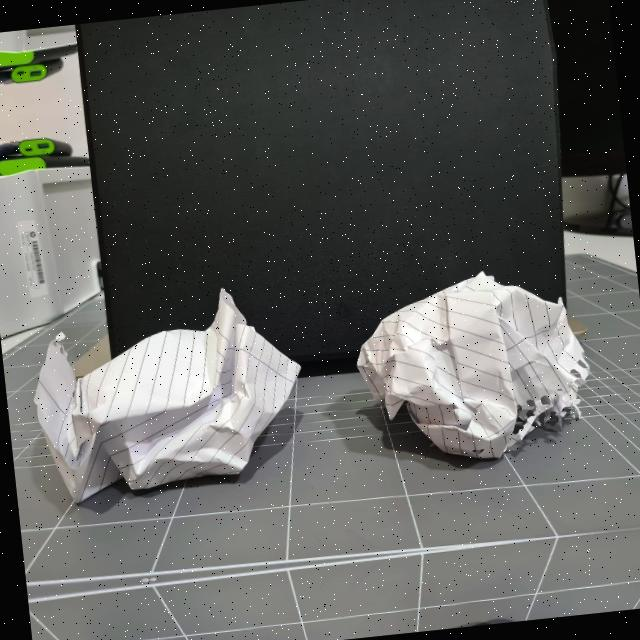paper: (22, 284, 304, 503), (338, 249, 606, 476)
